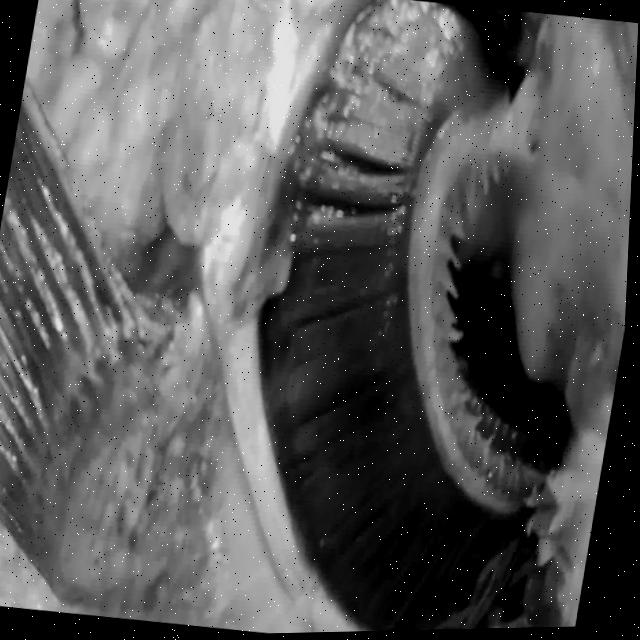Non-Fresh: (204, 0, 628, 636)
